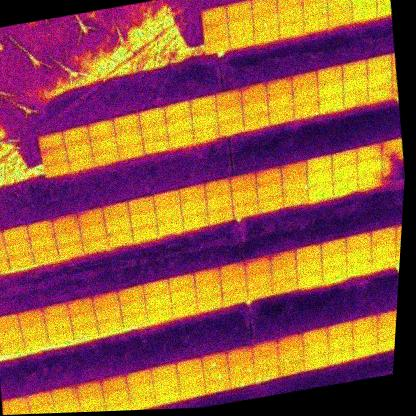Hotspot: (251, 8, 279, 29), (280, 175, 310, 194), (3, 238, 33, 257), (129, 210, 158, 228), (195, 293, 224, 311), (200, 352, 229, 370), (282, 189, 310, 207), (181, 212, 209, 230), (301, 0, 329, 18), (227, 358, 255, 376), (19, 321, 48, 338), (292, 102, 320, 119), (72, 322, 100, 339), (277, 347, 305, 364), (202, 365, 230, 382), (253, 365, 280, 382), (232, 201, 259, 217), (23, 333, 50, 349), (229, 372, 256, 388), (48, 327, 74, 343), (324, 0, 354, 13), (143, 139, 169, 153)
Normal: (315, 80, 345, 105), (177, 182, 207, 205), (111, 112, 142, 134), (75, 206, 105, 228), (113, 128, 144, 149), (213, 90, 242, 112), (51, 212, 80, 234), (279, 160, 309, 181), (0, 223, 30, 244), (225, 13, 255, 34), (290, 71, 319, 92), (264, 78, 293, 99), (341, 75, 370, 96), (140, 123, 169, 144), (265, 94, 295, 114), (304, 154, 334, 174), (202, 177, 232, 197), (151, 189, 181, 209), (204, 191, 234, 211), (239, 85, 267, 106), (216, 106, 244, 127), (165, 116, 193, 137), (164, 102, 193, 122), (139, 108, 168, 128), (365, 69, 394, 89), (87, 120, 116, 140), (190, 112, 219, 132), (89, 134, 118, 154), (329, 148, 358, 168), (228, 172, 257, 192), (101, 201, 130, 221), (154, 204, 183, 224), (350, 3, 379, 23), (277, 18, 306, 38), (227, 29, 256, 49), (354, 157, 384, 176), (102, 216, 132, 235), (78, 222, 108, 241), (129, 223, 159, 242), (269, 262, 299, 281), (250, 339, 280, 358), (174, 356, 204, 375), (365, 54, 393, 74), (340, 60, 368, 80), (316, 66, 344, 86), (189, 97, 217, 117), (62, 126, 90, 146), (291, 87, 319, 107), (240, 101, 268, 121), (254, 166, 282, 186), (127, 195, 155, 215), (26, 219, 54, 239), (269, 247, 297, 267), (276, 3, 304, 23), (125, 367, 153, 387), (326, 8, 354, 28), (36, 132, 65, 151), (305, 169, 334, 188), (179, 198, 208, 217), (355, 171, 384, 190), (331, 176, 360, 195), (224, 0, 253, 19), (294, 242, 323, 261), (91, 289, 120, 308), (118, 297, 147, 316), (149, 362, 178, 381), (99, 374, 128, 393), (326, 345, 355, 364), (302, 350, 331, 369), (178, 381, 207, 400), (329, 164, 359, 182), (203, 34, 230, 54), (206, 206, 234, 225), (81, 234, 109, 253), (218, 260, 246, 279), (193, 266, 221, 285), (167, 271, 195, 290), (17, 307, 45, 326), (225, 345, 253, 364), (25, 390, 53, 409), (1, 395, 29, 414), (301, 14, 329, 33), (251, 25, 279, 44), (65, 142, 94, 160), (66, 155, 95, 173), (229, 188, 258, 206), (29, 233, 58, 251), (55, 241, 84, 259), (116, 284, 145, 302), (343, 245, 372, 263), (168, 286, 197, 304), (143, 291, 172, 309), (43, 314, 72, 332), (120, 309, 149, 327), (349, 315, 378, 333), (76, 393, 105, 411), (202, 377, 231, 395), (42, 159, 69, 178), (319, 237, 346, 256), (202, 19, 229, 38), (256, 181, 284, 199), (53, 228, 81, 246), (32, 247, 60, 265), (7, 252, 35, 270), (201, 6, 229, 24), (343, 232, 371, 250), (142, 278, 170, 296), (41, 301, 69, 319), (219, 274, 247, 292), (193, 280, 221, 298), (296, 269, 324, 287), (276, 334, 304, 352), (326, 333, 354, 351), (75, 380, 103, 398), (49, 385, 77, 403), (352, 340, 380, 358), (128, 391, 156, 409), (256, 196, 285, 213), (66, 296, 95, 313), (93, 303, 122, 320), (320, 264, 349, 281), (68, 309, 97, 326), (40, 146, 67, 164), (307, 183, 334, 201), (369, 227, 396, 245), (244, 256, 271, 274), (344, 257, 371, 275), (0, 338, 27, 356), (342, 92, 370, 109), (117, 144, 145, 161), (92, 150, 120, 167), (156, 218, 184, 235), (105, 230, 133, 247), (369, 241, 397, 258), (295, 257, 323, 274), (245, 269, 273, 286), (270, 276, 298, 293), (246, 282, 274, 299), (171, 299, 199, 316), (146, 304, 174, 321), (325, 320, 353, 337), (300, 326, 328, 343), (302, 340, 330, 357), (178, 370, 206, 387), (102, 386, 130, 403), (127, 382, 155, 399), (153, 387, 181, 404), (352, 327, 379, 344), (217, 122, 244, 138), (320, 252, 347, 268), (221, 288, 248, 304), (96, 316, 123, 332), (252, 354, 279, 370), (151, 376, 178, 392), (268, 109, 294, 125), (193, 127, 219, 143), (371, 254, 397, 270), (0, 323, 23, 341), (318, 99, 345, 114), (168, 132, 195, 147), (375, 308, 397, 326), (52, 399, 80, 413), (103, 397, 131, 411), (243, 117, 268, 132), (279, 360, 304, 375), (0, 312, 20, 329), (375, 322, 396, 338), (249, 0, 277, 11), (376, 335, 395, 351), (28, 404, 55, 414), (79, 403, 107, 412), (274, 0, 303, 8), (349, 0, 378, 8), (4, 408, 32, 415), (298, 0, 327, 3)
Shadow: (365, 82, 394, 103), (355, 142, 384, 162)
